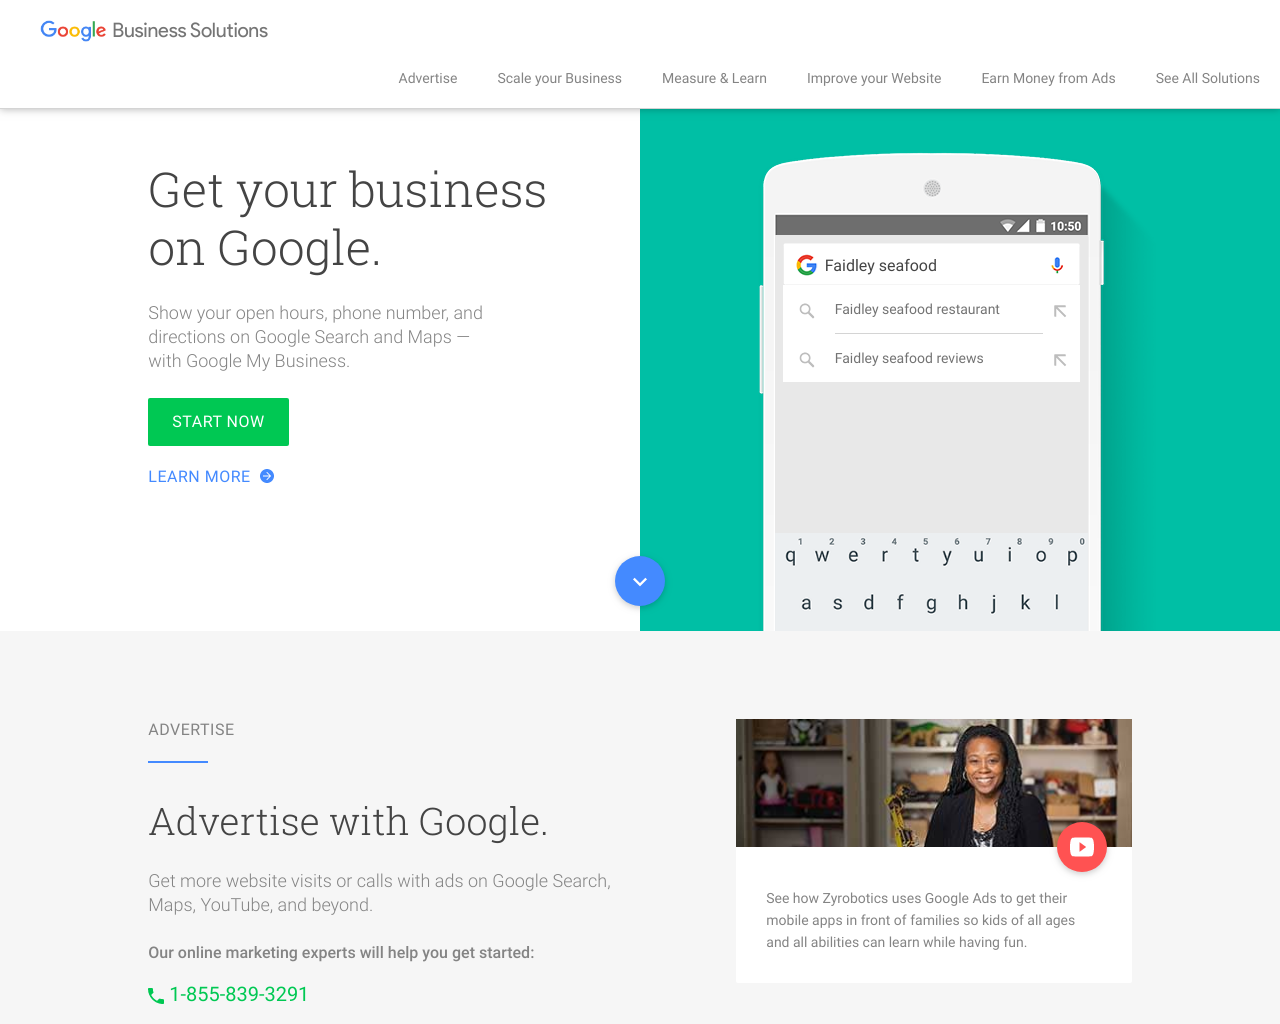Google: (38, 14, 108, 44)
